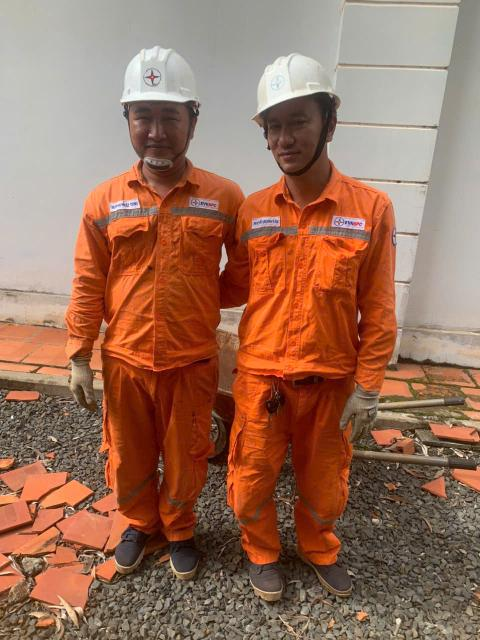gloves: (57, 336, 108, 422), (339, 365, 390, 448)
helmet: (89, 32, 235, 130), (243, 40, 362, 130)
shoes: (99, 512, 159, 583), (159, 507, 205, 588), (303, 537, 359, 596), (245, 539, 290, 604)
